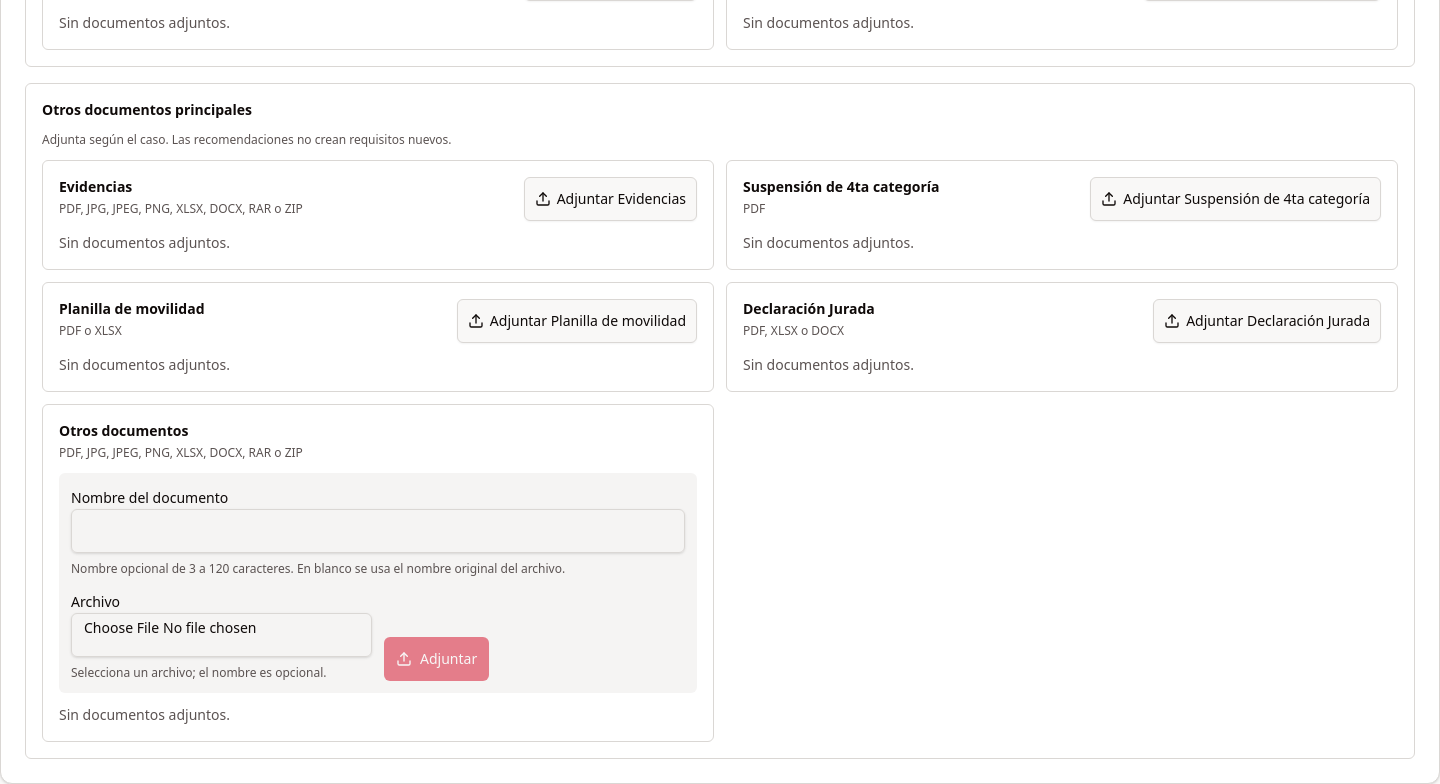
Test: supplier document card approved grouping › blocks OTHER chooser for invalid title Anexo / privado
(page scrolled)
Step 1. Type "Anexo / privado" into the field labelled "Nombre del documento" → (378, 531), box top-left (71, 509), bottom-right (685, 553)
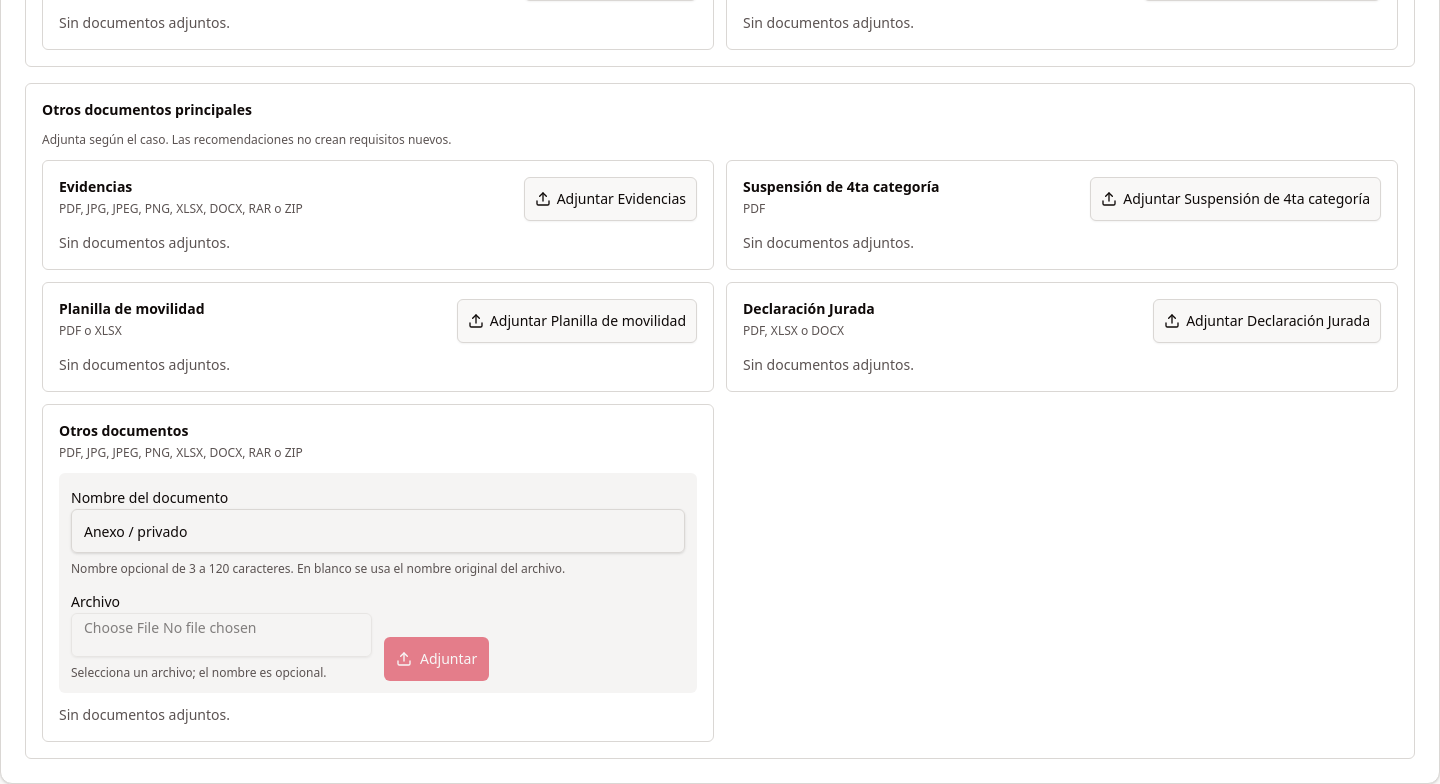
Step 2. Leave the field labelled "Nombre del documento", box top-left (71, 509), bottom-right (685, 553)
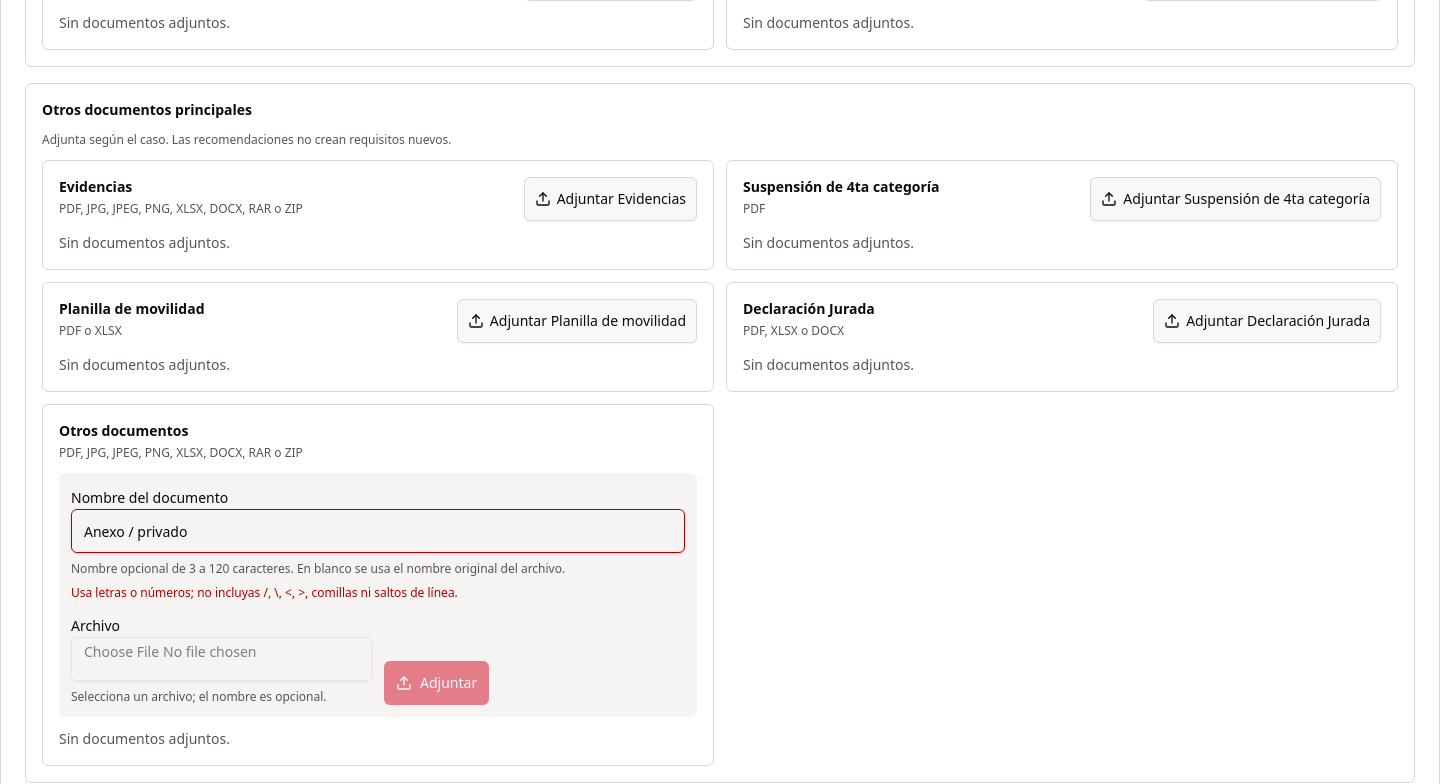
Expected: the message does not show "Anexo / privado", top-left (71, 584), bottom-right (458, 601)
Expected: the file field named "Archivo de Otros documentos" is disabled, top-left (71, 637), bottom-right (372, 681)
Expected: the message reads "Usa letras o números; no incluyas /, \\, <, >, comillas ni saltos de línea.", top-left (71, 584), bottom-right (458, 601)
